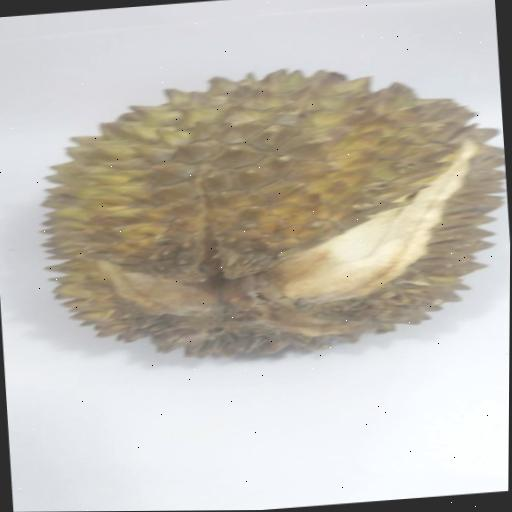rot: (9, 40, 512, 388)
